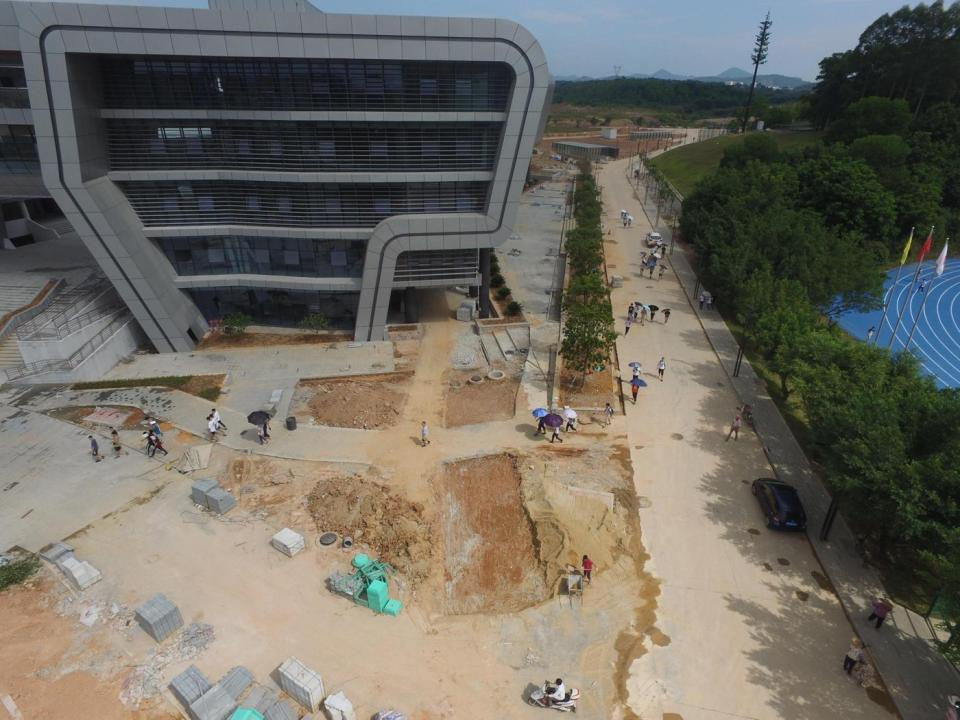car: (752, 478, 808, 533), (645, 232, 664, 247)
